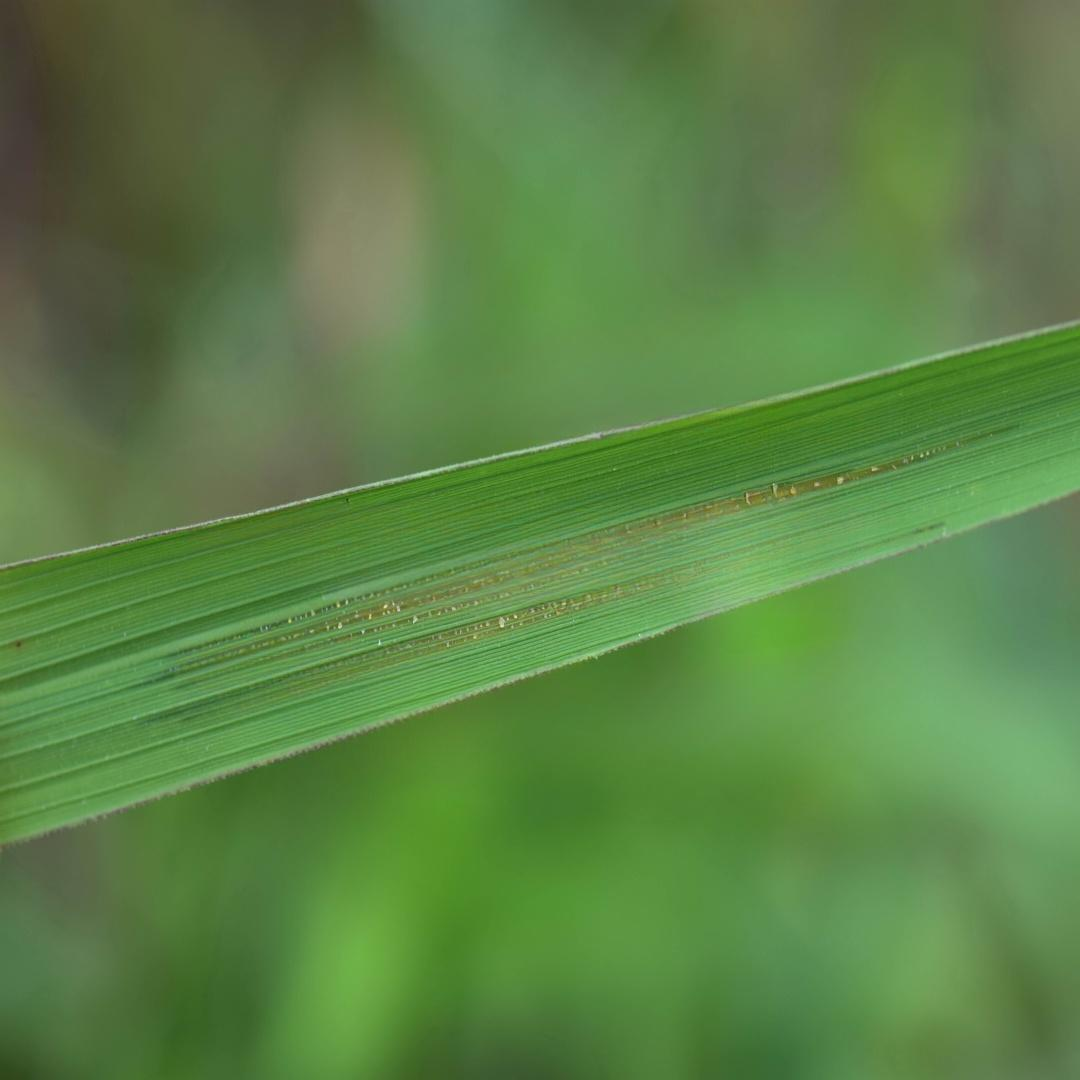BLS: (149, 423, 1026, 683), (171, 527, 721, 692), (346, 577, 660, 668)
LEAF: (0, 324, 1079, 845)
